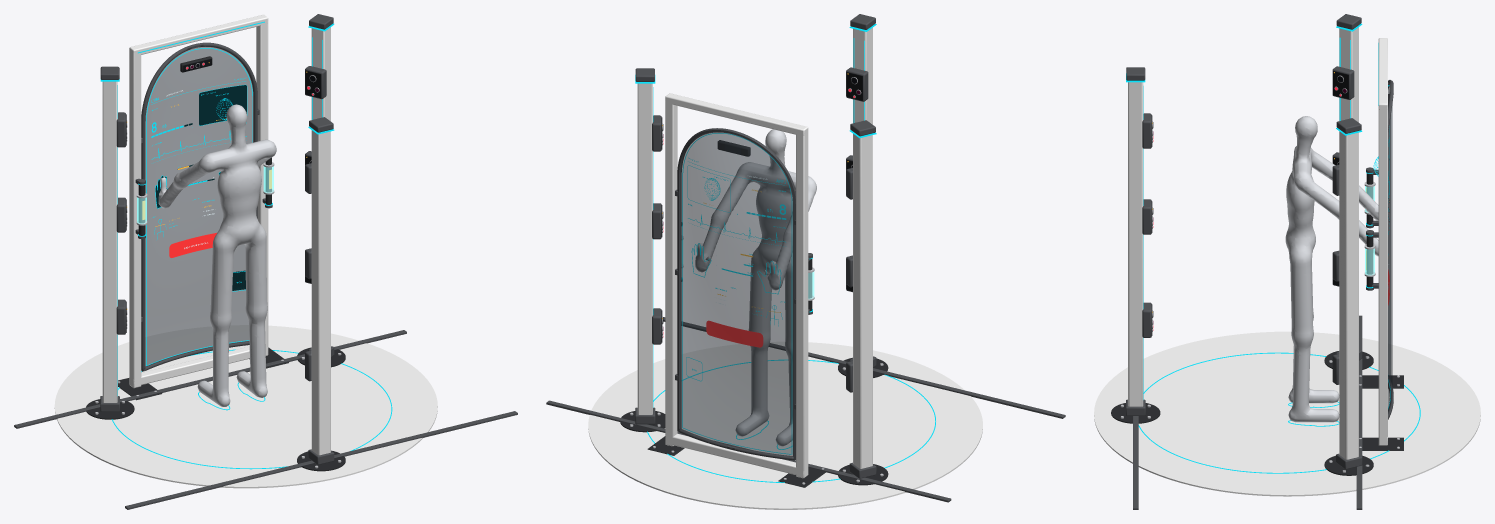
Rendered from LYRA_V2_Human.glb.
The picture shows the model from 3 angles, left to right: view 1: azimuth 30°, elevation 25°; view 2: azimuth 150°, elevation 25°; view 3: azimuth 270°, elevation 25°; orthographic projection. The views are drawn at different scales.
Parts seen in each view (by area): view 1: Platform, Mirror_Glass, Crew_Body, Pillar_Back_Column, Pillar_FrontL_Column, Stand_Leg_L, Mirror_Frame, Stand_Leg_R, SeatTrack, Stand_TopBar, SeatTrack.001, UI_FacePanel (+5 smaller); view 2: Platform, Mirror_Glass, Crew_Body, Pillar_FrontL_Column, Pillar_FrontR_Column, Stand_Leg_L, Stand_Leg_R, Mirror_Frame, Stand_TopBar, Stand_BottomBar, Pillar_Back_Column, SeatTrack (+4 smaller); view 3: Platform, Crew_Body, Pillar_FrontR_Column, Pillar_Back_Column, Stand_Leg_R, Mirror_Glass, Pillar_FrontL_Column, SeatTrack.001, Platform_PillarRing, Stand_TopBar, SeatTrack, Pillar_Back_BasePlate (+2 smaller).
Boxes of the visible parts, x1,y1,x2,y2 form: Platform: (54,325,437,488); Mirror_Glass: (145,47,253,366); Crew_Body: (158,104,276,406); Pillar_Back_Column: (311,130,330,455); Pillar_FrontL_Column: (102,81,117,402); Stand_Leg_L: (129,50,141,388); Mirror_Frame: (141,42,257,371); Stand_Leg_R: (256,20,268,355); SeatTrack: (125,411,517,509); Stand_TopBar: (129,14,268,55); SeatTrack.001: (14,330,406,428); UI_FacePanel: (199,85,246,125); Platform: (588,341,982,509); Mirror_Glass: (680,132,792,456); Crew_Body: (695,129,816,446); Pillar_FrontL_Column: (853,134,872,468); Pillar_FrontR_Column: (637,83,652,414); Stand_Leg_L: (796,130,808,478); Stand_Leg_R: (665,99,677,446); Mirror_Frame: (677,128,795,460); Stand_TopBar: (665,93,808,135); Stand_BottomBar: (665,433,805,476); Pillar_Back_Column: (853,27,872,124); SeatTrack: (663,317,1065,418); Platform: (1094,331,1480,496); Crew_Body: (1285,116,1378,422); Pillar_FrontR_Column: (1339,131,1358,459); Pillar_Back_Column: (1128,82,1143,406); Stand_Leg_R: (1378,106,1387,445); Mirror_Glass: (1388,84,1392,413); Pillar_FrontL_Column: (1339,27,1358,122); SeatTrack.001: (1356,315,1362,509); Platform_PillarRing: (1138,352,1420,473); Stand_TopBar: (1378,38,1387,109); SeatTrack: (1133,416,1138,509); Pillar_Back_BasePlate: (1111,403,1160,423).
Size of what is drawn, in the model's own units: 2.4 by 2 by 2.04.
